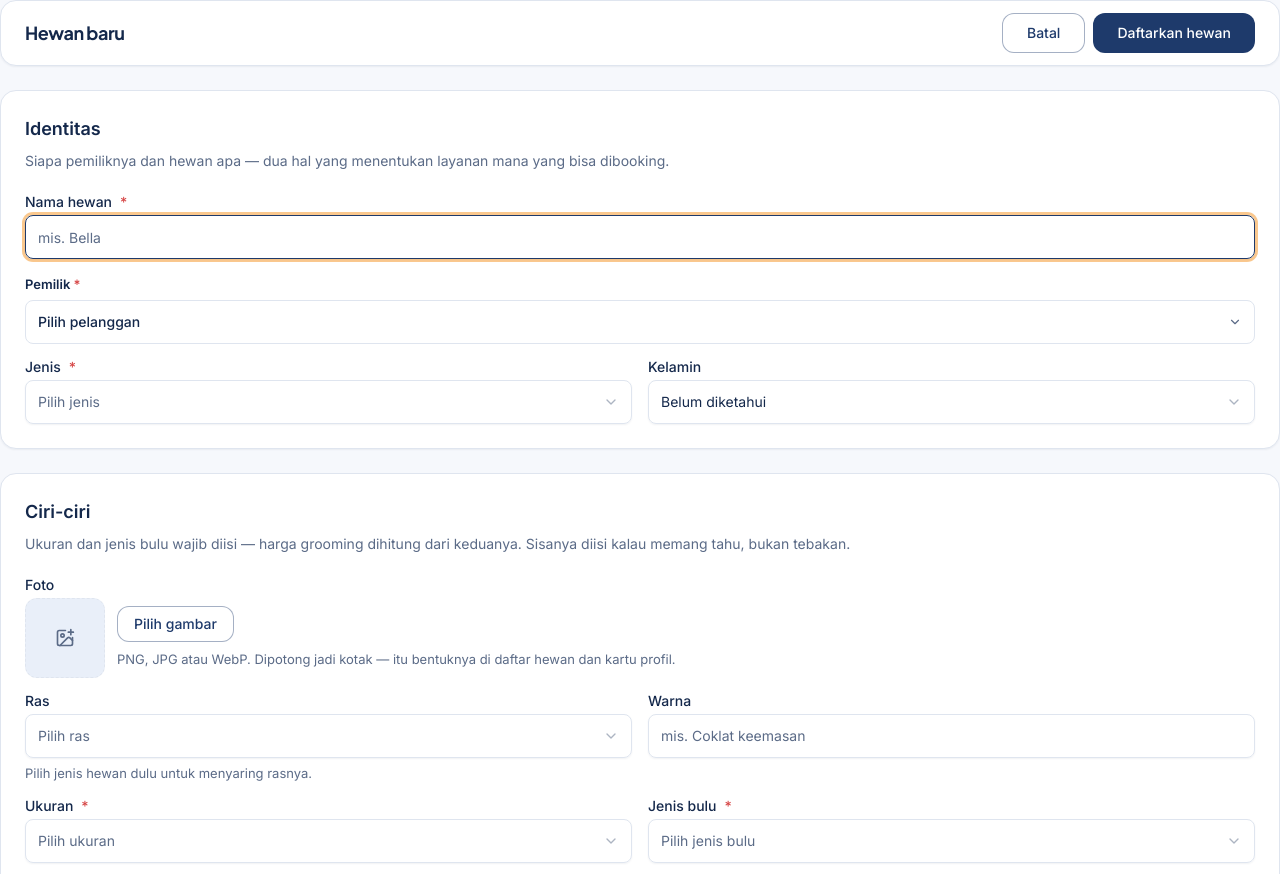
Test: PetForm — registering › offers only the chosen animal's breeds, and the ones that say nothing
Click the dropdown labelled "jenis": (69, 401) [25, 380, 632, 424]
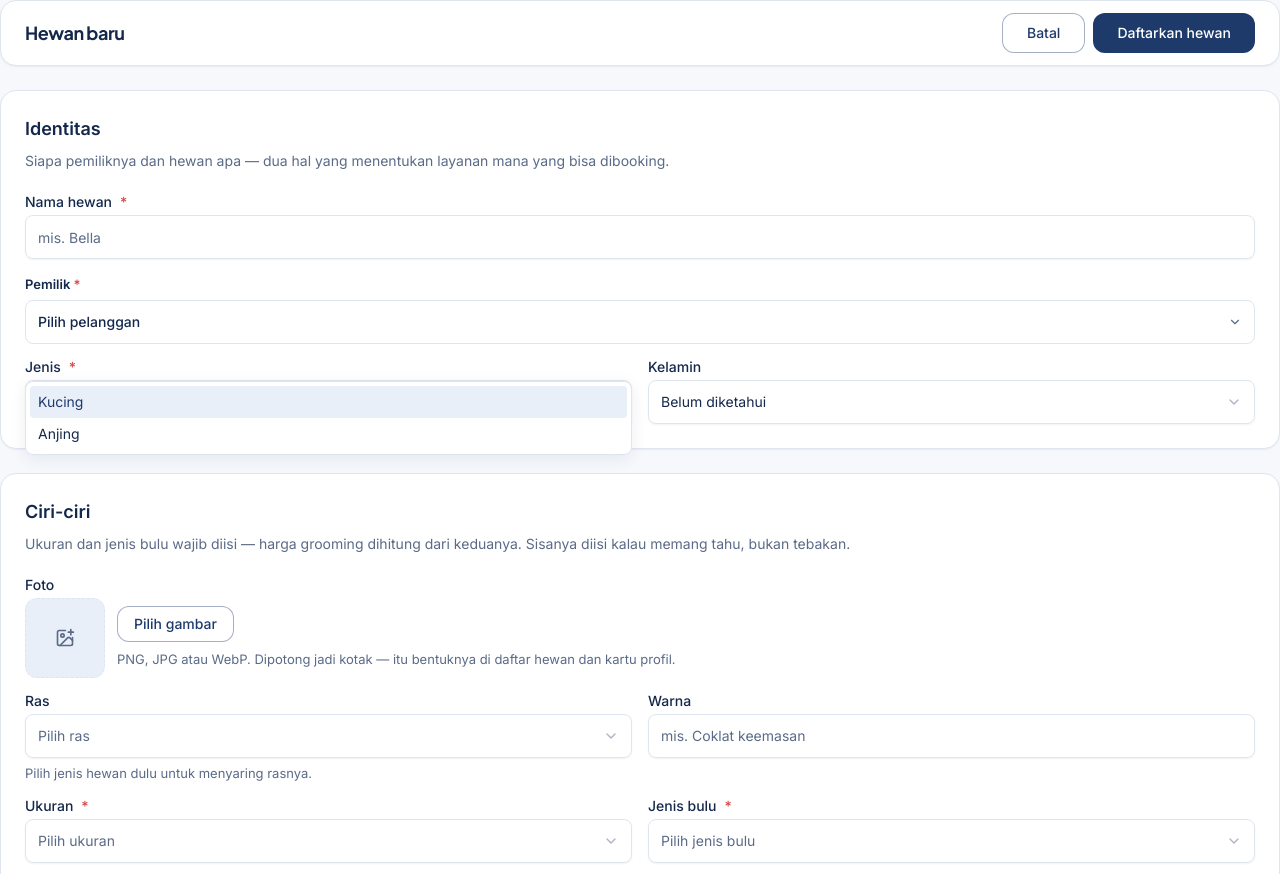
Click the option "Kucing": (61, 401) [30, 386, 627, 418]
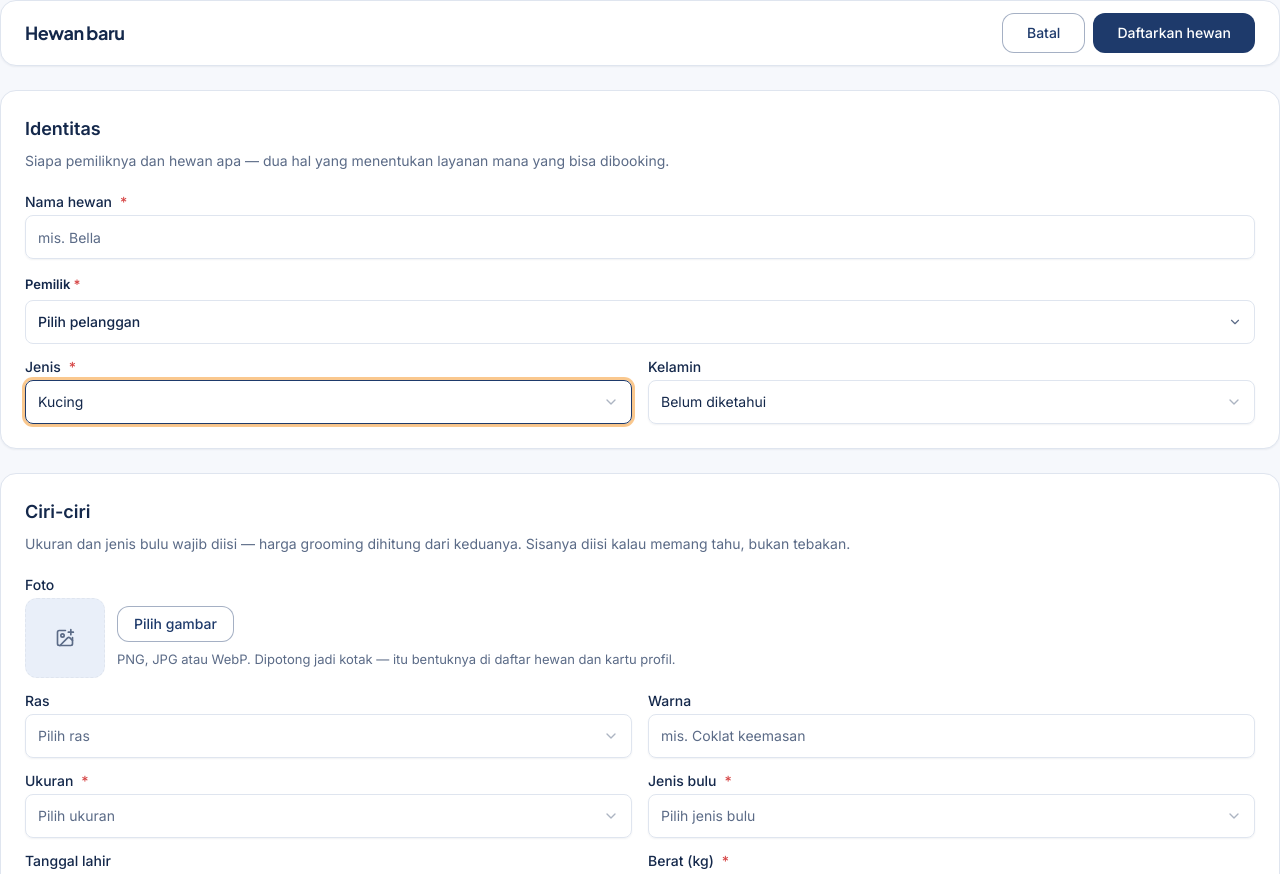
Click the dropdown labelled "ras": (64, 735) [25, 714, 632, 758]
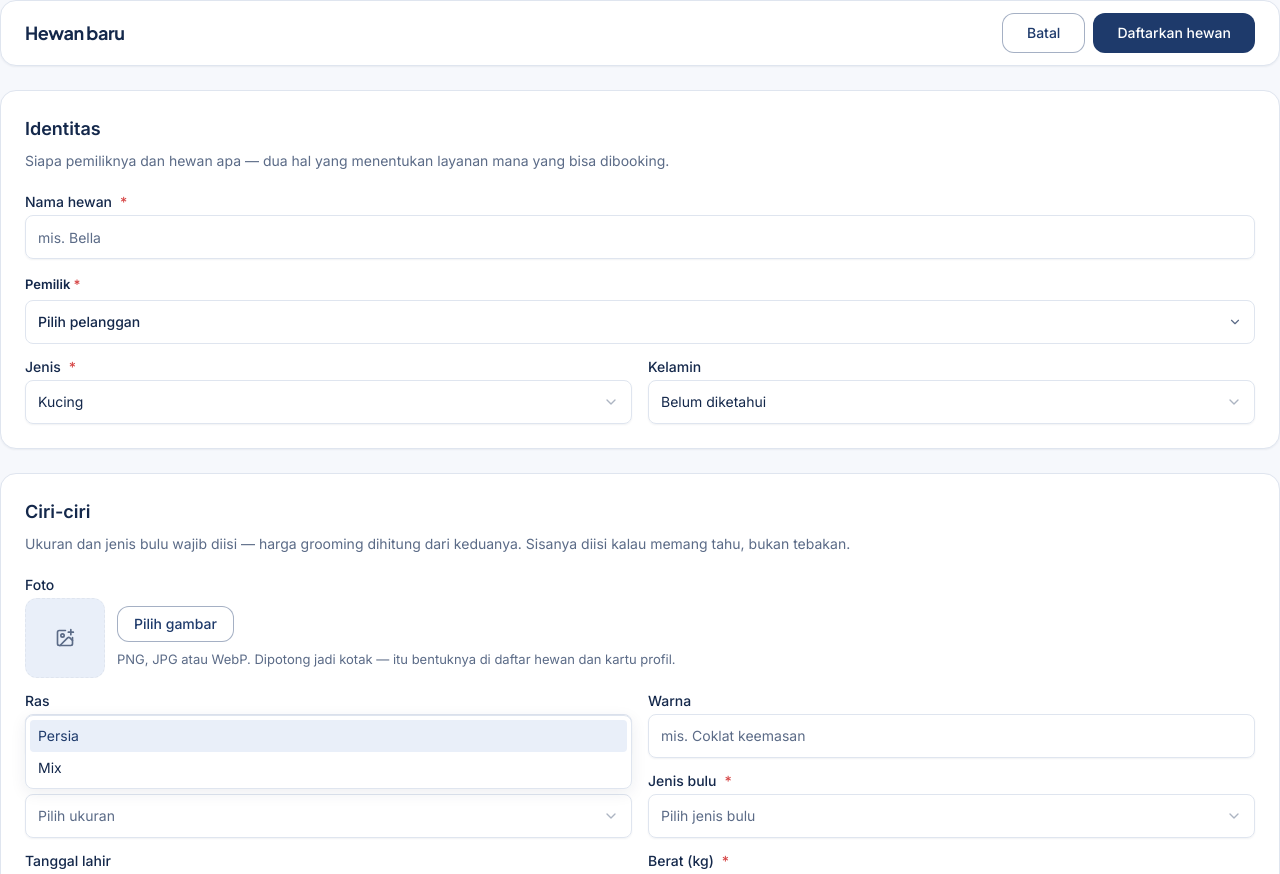
Now the option "Persia" is shown, box [30, 720, 627, 752]
Now the option "Mix" is shown, box [38, 759, 62, 776]
